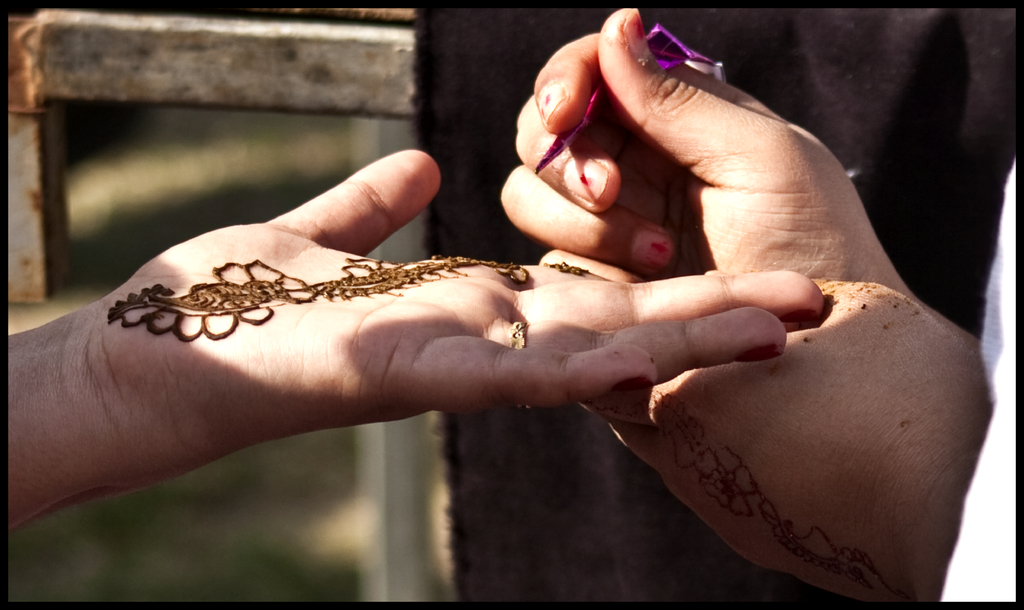Person: (500, 1, 1024, 610), (7, 148, 825, 531)
